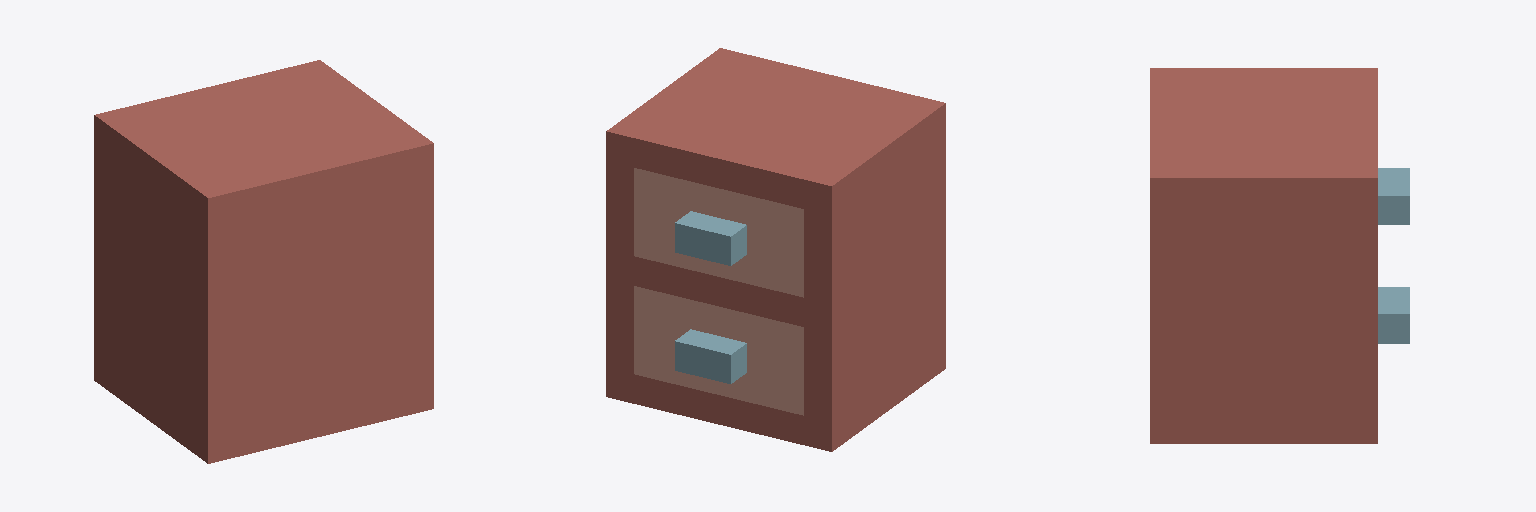
3 renders of one model, left to right at view 1: azimuth 30°, elevation 25°; view 2: azimuth 150°, elevation 25°; view 3: azimuth 270°, elevation 25°, orthographic.
Visible parts, largest first — view 1: commode1; view 2: commode1; view 3: commode1.
Part boxes in pixels (left/top/right/bottom): commode1: left=94, top=60, right=433, bottom=463; commode1: left=606, top=48, right=945, bottom=451; commode1: left=1150, top=68, right=1409, bottom=443.
Size of the model in its own units: 0.8 by 0.9 by 0.8.
1 materials, 1 textured.